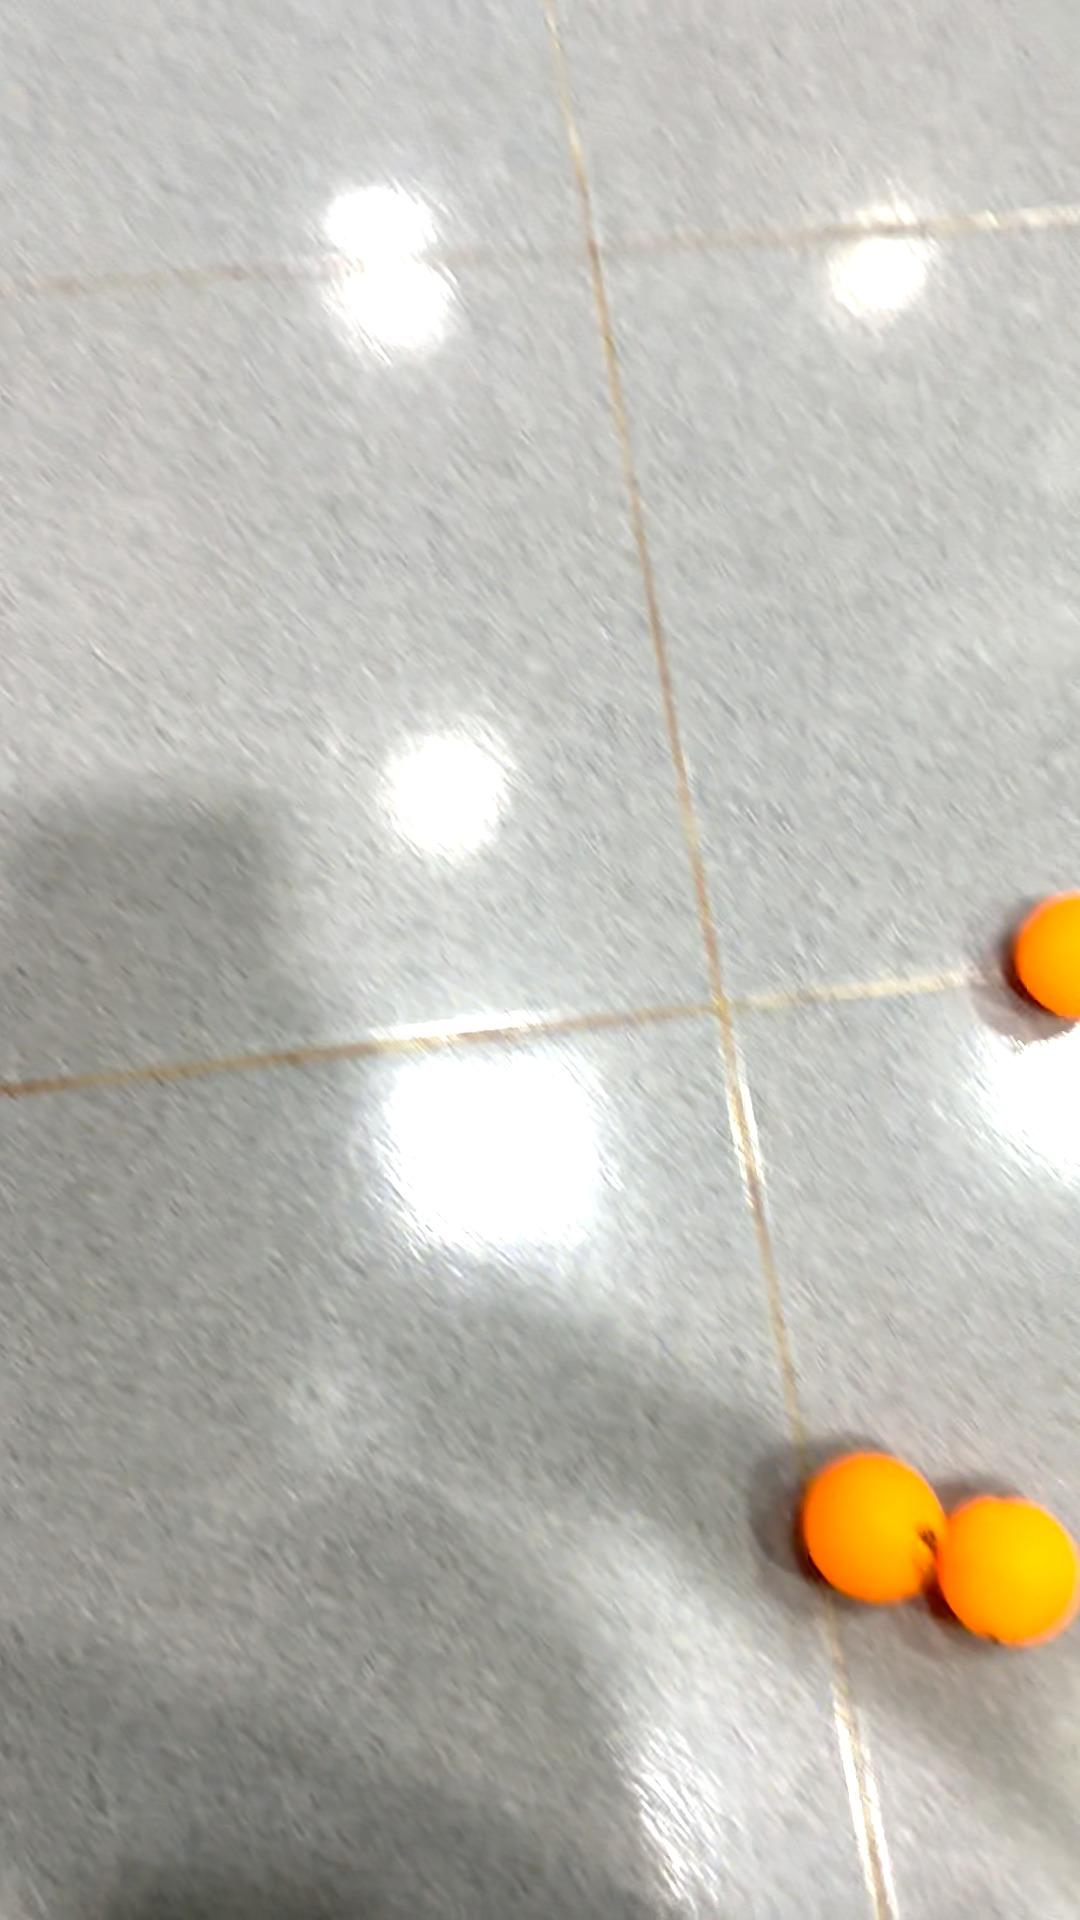oball: (781, 1435, 939, 1604), (926, 1491, 1080, 1639), (1007, 885, 1080, 1030)
